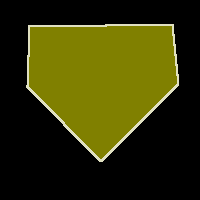tie: (27, 24, 178, 161)
